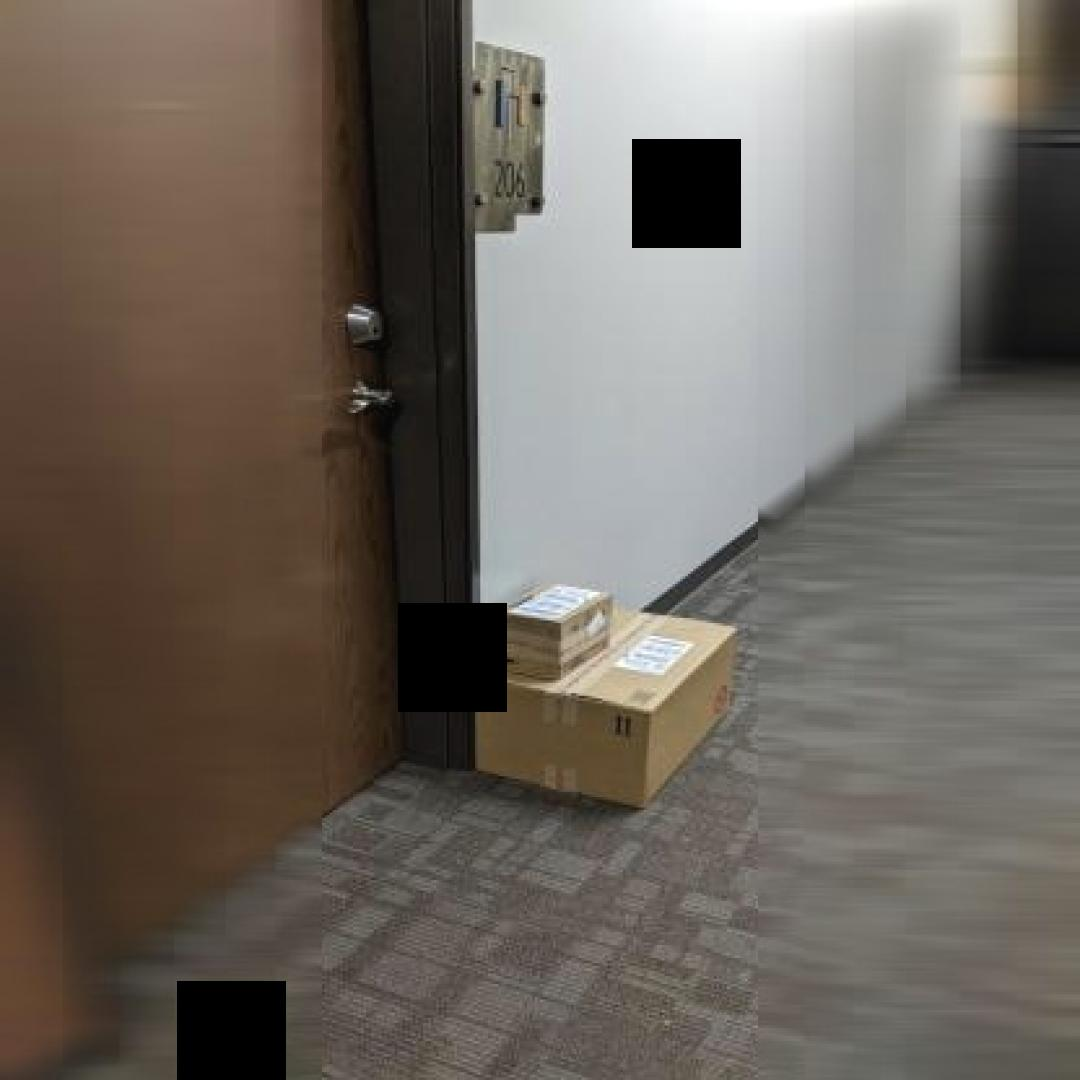package: (467, 602, 745, 815), (472, 579, 624, 683)
